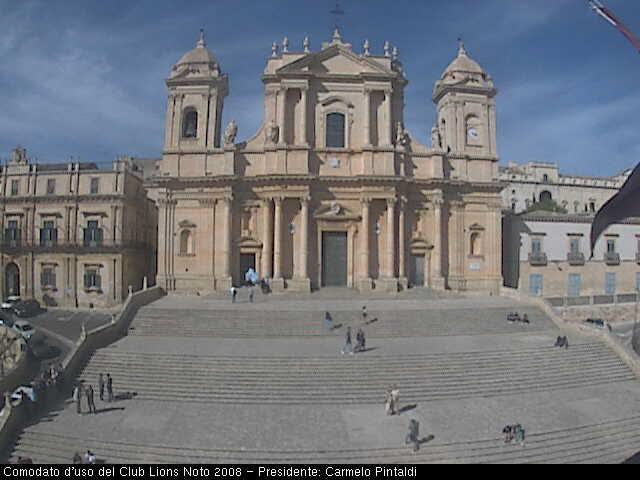person: (342, 323, 353, 357), (407, 419, 419, 450), (391, 384, 400, 417), (85, 384, 96, 411), (73, 384, 82, 414), (512, 420, 523, 443), (323, 309, 333, 334), (384, 389, 393, 416), (82, 449, 96, 465), (106, 373, 113, 402), (354, 329, 362, 354), (22, 386, 34, 402), (246, 283, 255, 304), (229, 285, 238, 303), (42, 371, 51, 389), (503, 423, 511, 442), (361, 330, 368, 351), (360, 305, 368, 323), (35, 378, 42, 398), (99, 373, 104, 398), (261, 279, 269, 293), (72, 452, 81, 464), (507, 310, 514, 325), (522, 313, 529, 328), (17, 455, 30, 463), (556, 335, 563, 348), (563, 334, 568, 351), (515, 312, 521, 326)
